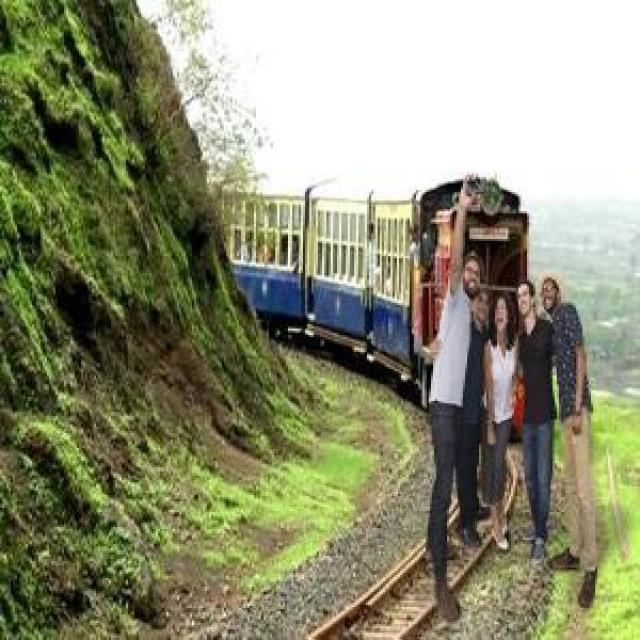rail: (263, 422, 520, 640)
